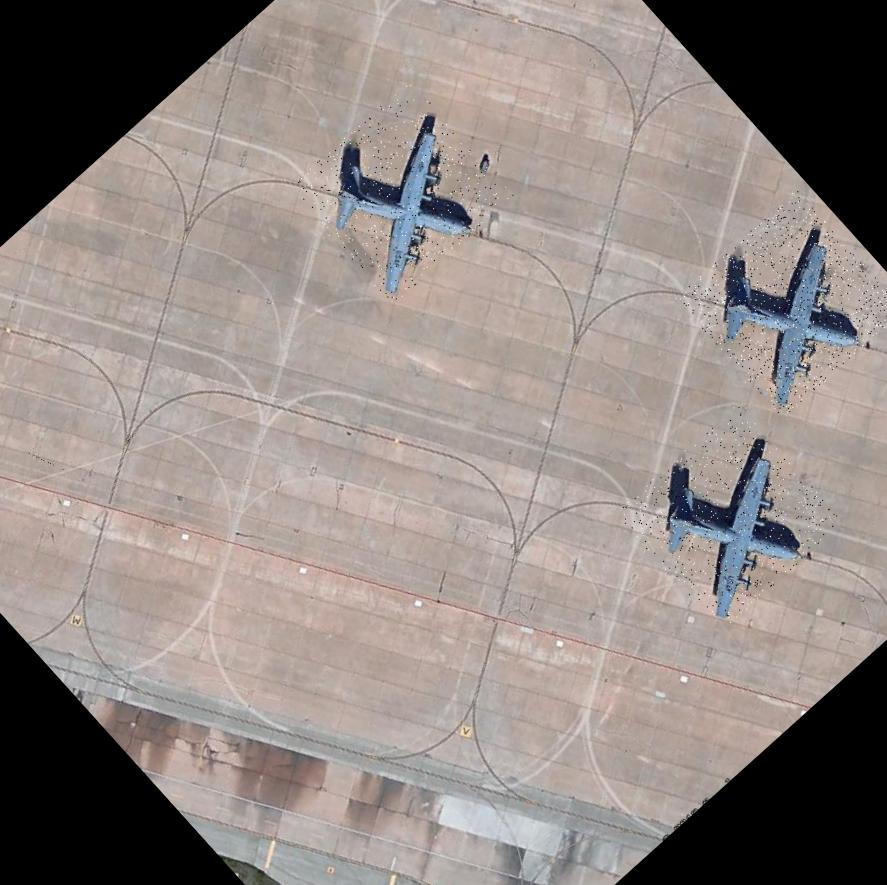A2: (614, 403, 844, 632), (287, 79, 514, 305), (674, 189, 887, 418)
